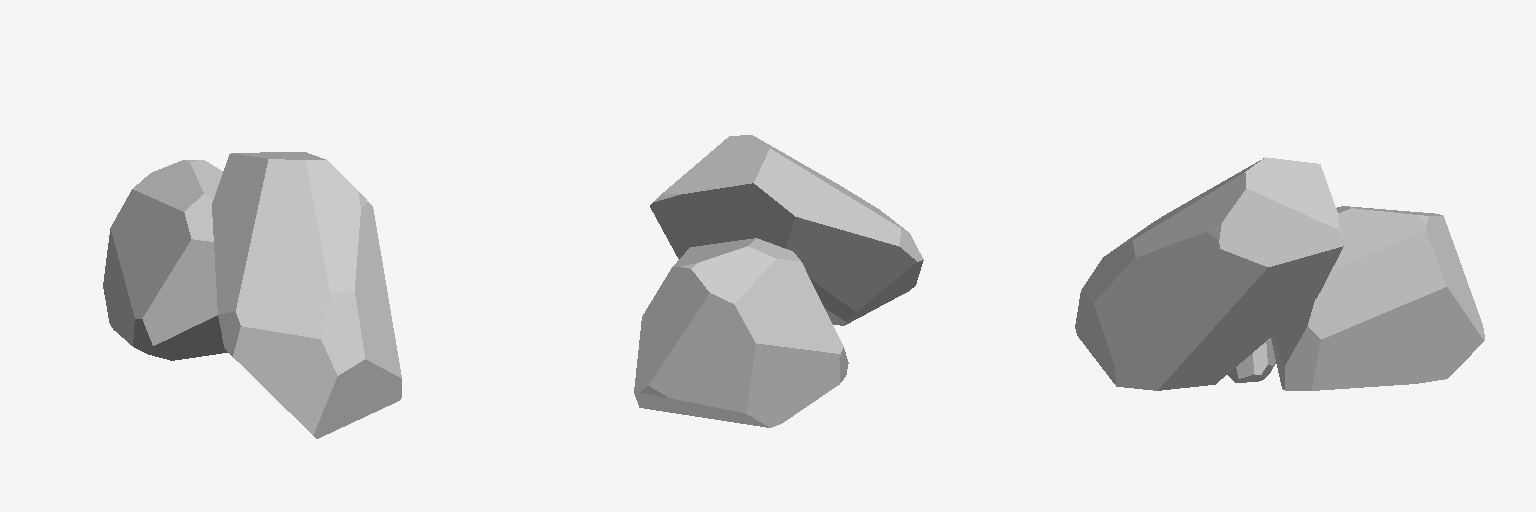
Rendered from big_rocks.obj.
3 renders of one model, left to right at view 1: azimuth 30°, elevation 25°; view 2: azimuth 150°, elevation 25°; view 3: azimuth 270°, elevation 25°, orthographic.
Parts seen in each view (by area): view 1: Cube.002; view 2: Cube.002; view 3: Cube.002.
Boxes of the visible parts, x1=… form: Cube.002: x1=103, y1=152, x2=401, y2=438; Cube.002: x1=634, y1=135, x2=923, y2=427; Cube.002: x1=1075, y1=157, x2=1484, y2=390.
Size of the model in its own units: 3.54 by 3.52 by 6.46.